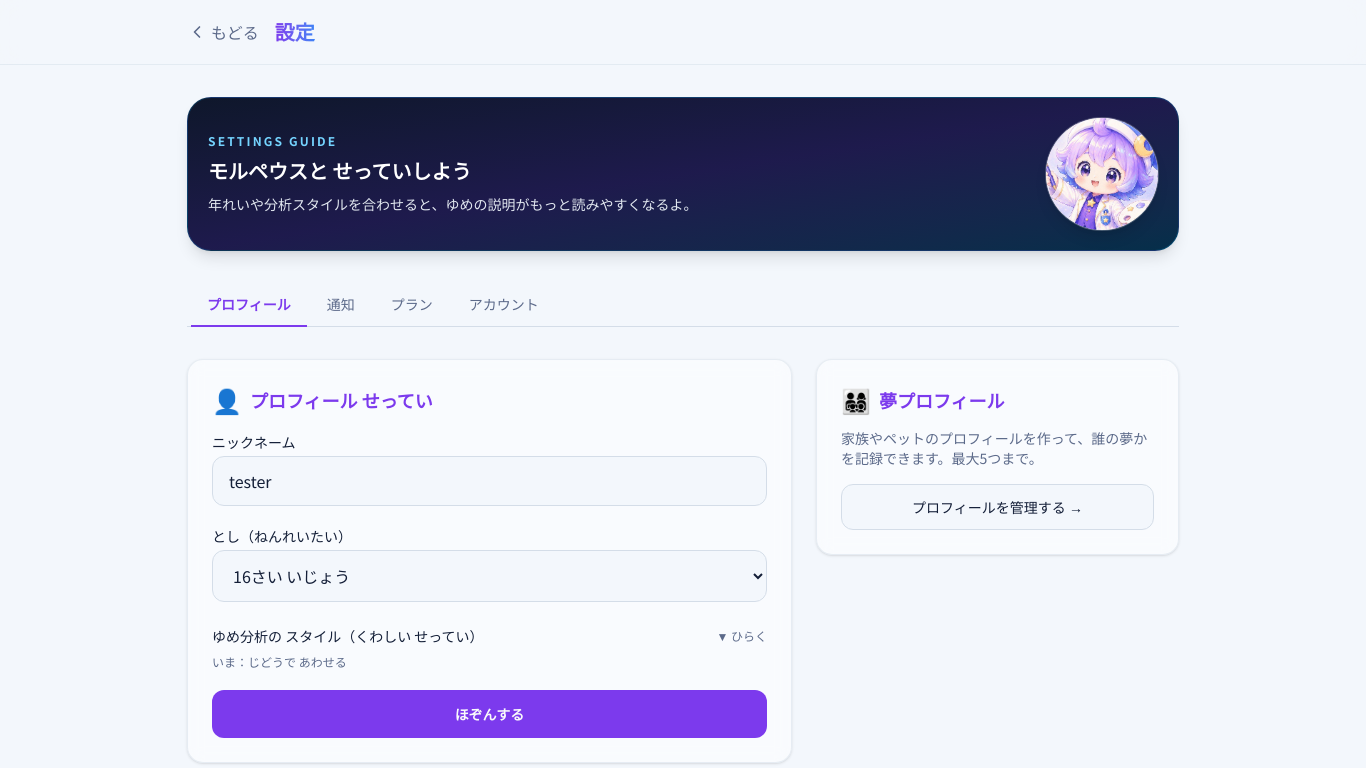
Test: 削除APIが失敗した場合 › エラーを表示し、logout / redirect に進まない
Click the tab "アカウント". click: (504, 305)
box: [453,283,555,327]
(page scrolled)
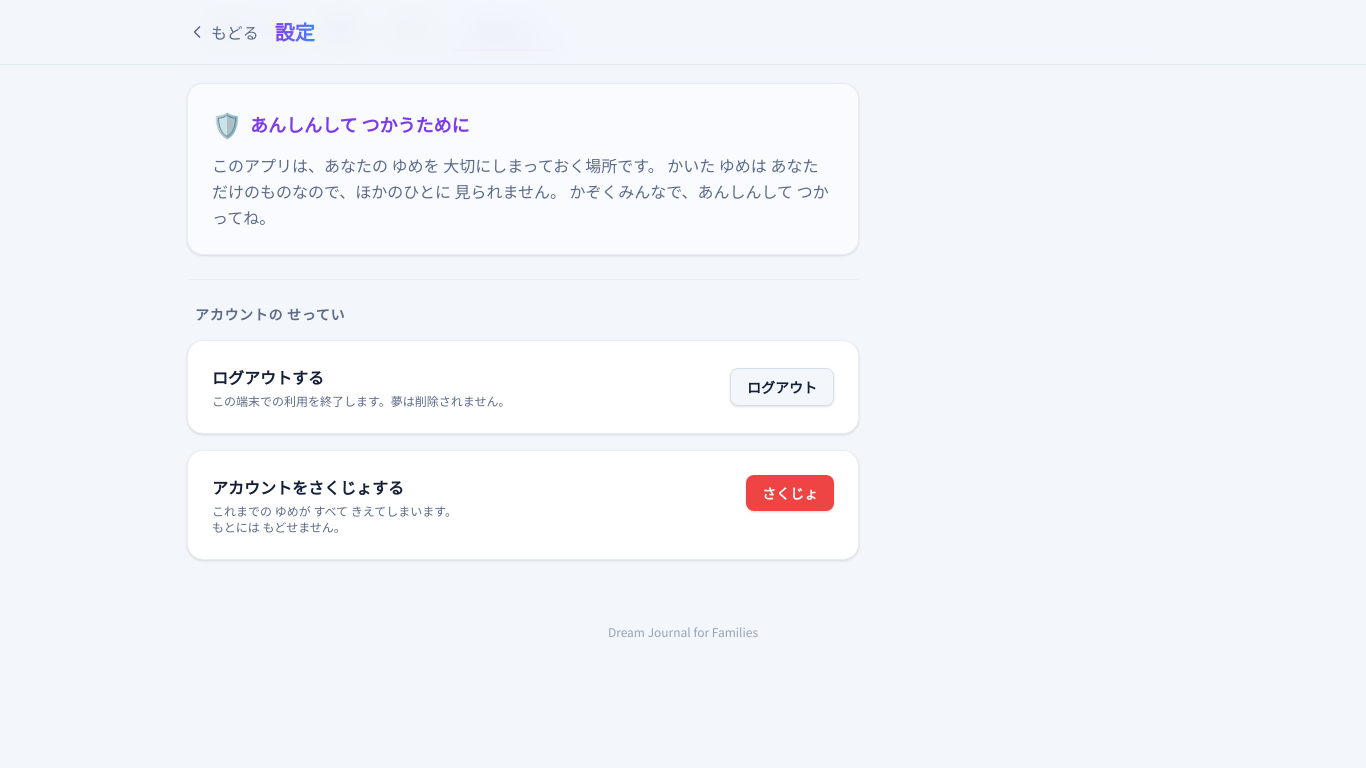
Click the button "さくじょ". click: (790, 493)
box: [746,475,834,511]
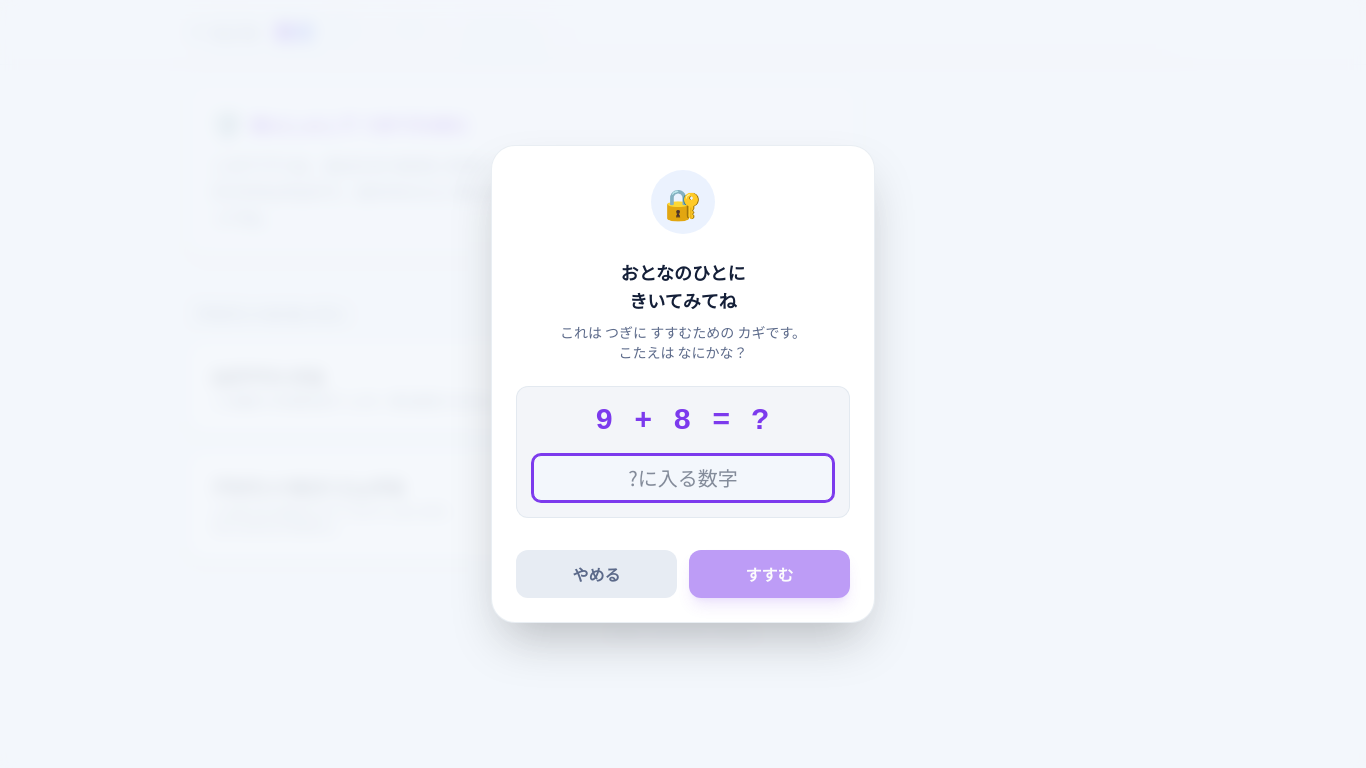
Type "17" into the field with placeholder "?に入る数字". click: (683, 478)
box: [533,455,833,501]
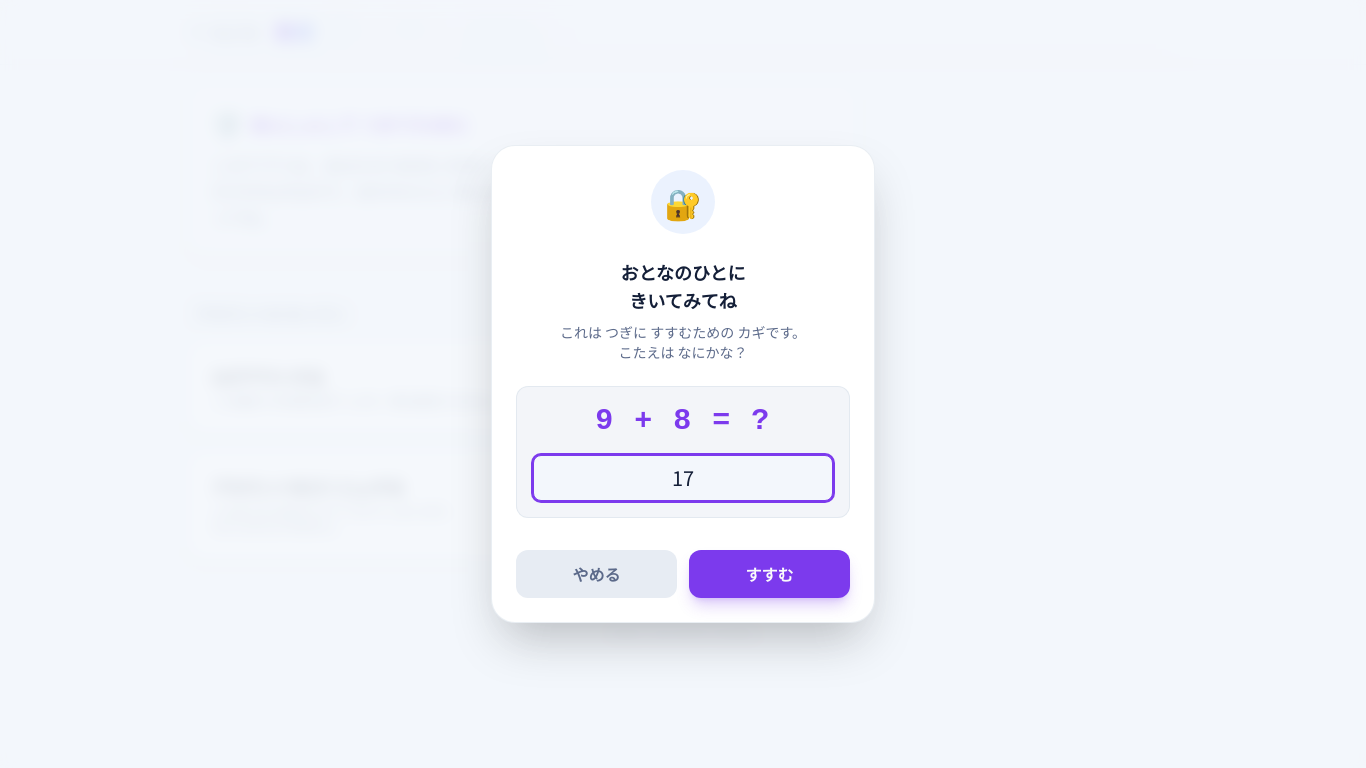
Click the button "すすむ". click: (770, 574)
box: [689,550,850,598]
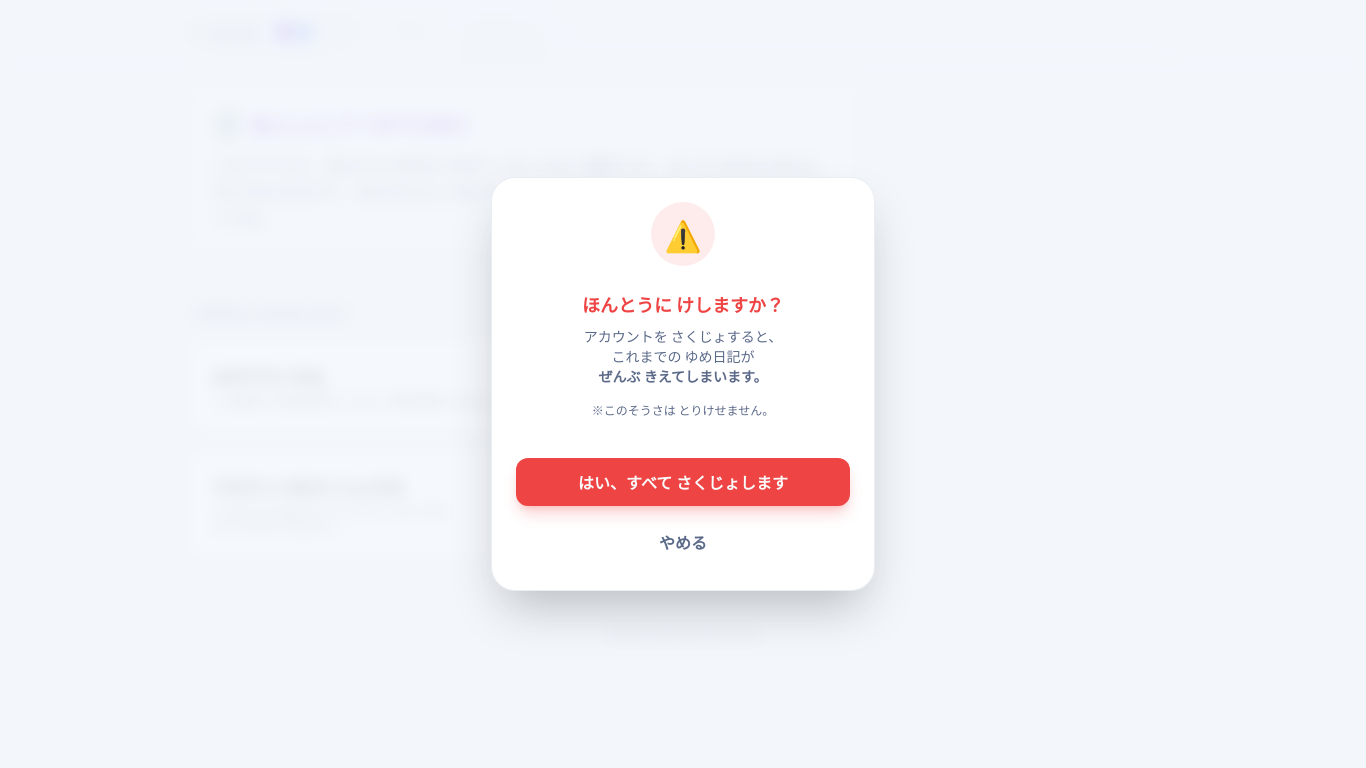
Click the button "はい、すべて さくじょします". click: (683, 482)
box: [516,458,850,506]
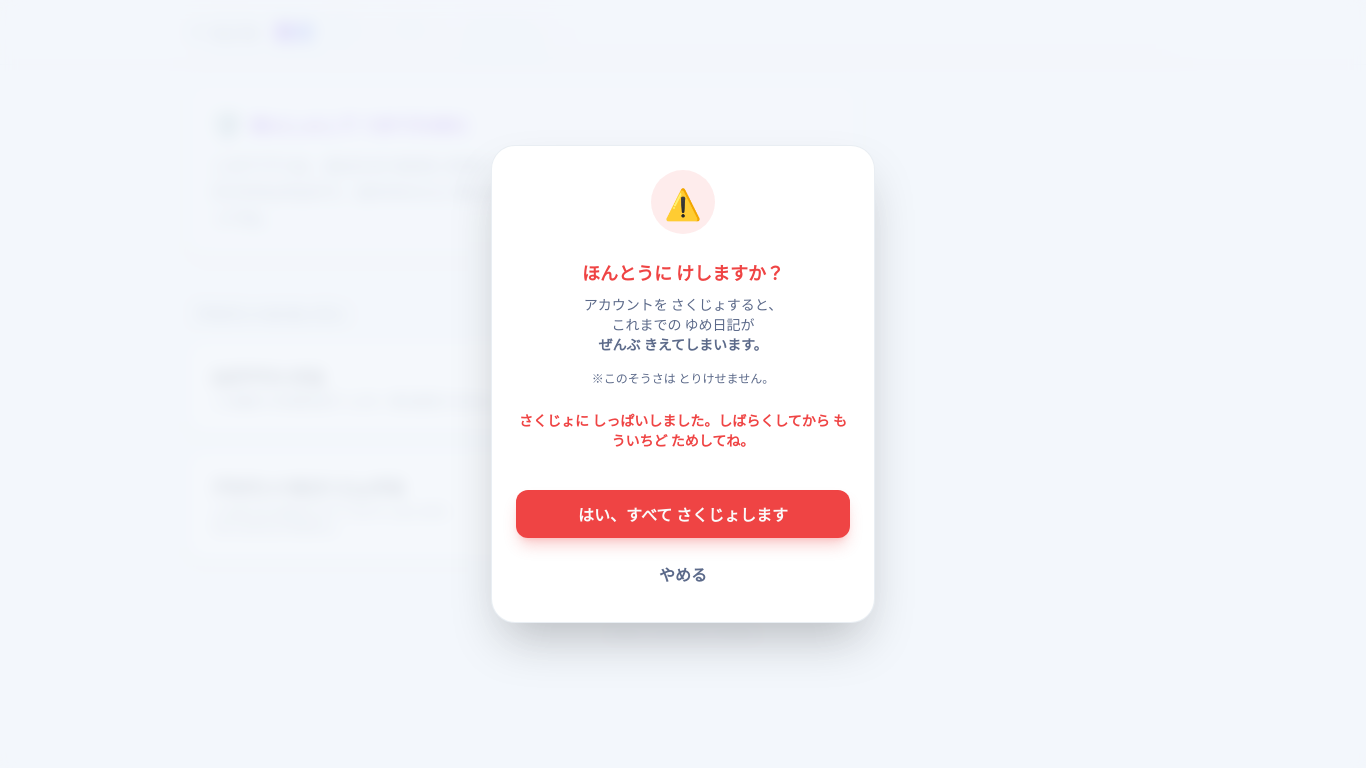
Now the text "さくじょに しっぱいしました。しばらくしてから もういちど ためしてね。" is shown, box [516,410,850,450]
